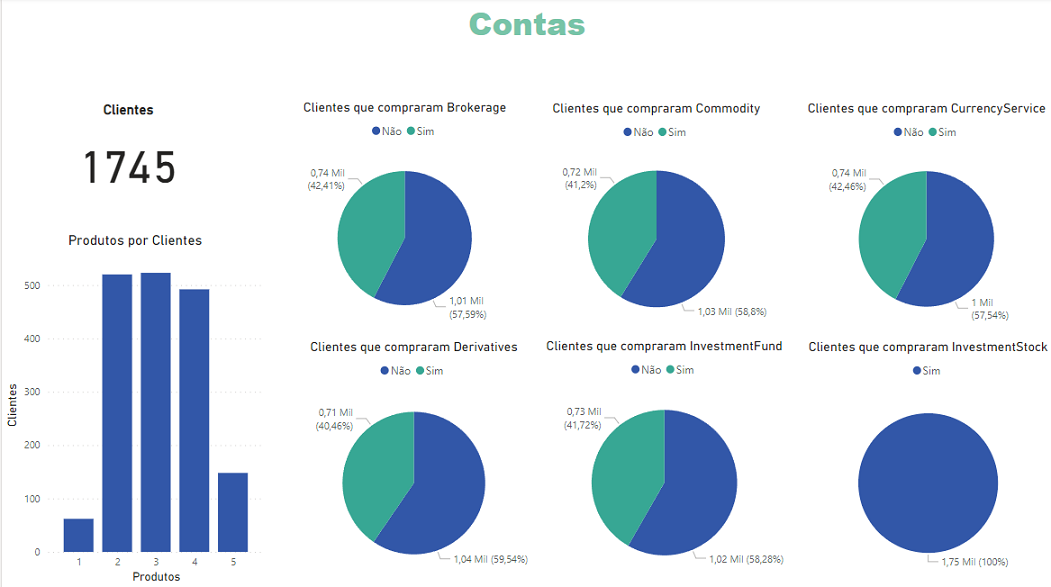

This screenshot's page, from the dashboard's own definition file:
{"tool":"powerbi","page":{"name":"Contas","canvas":[1280,720],"ordinal":2},"visuals":[{"type":"pieChart","title":"Clientes que compraram Derivatives","fields":{"Y":["CountNonNull(contas._id)"],"Category":["contas.Derivatives"]},"box":[343.1,417.2,318.4,303.3],"z":0},{"type":"pieChart","title":"Clientes que compraram Commodity","fields":{"Category":["contas.Commodity"],"Y":["CountNonNull(contas._id)"]},"box":[640.8,126.2,314.2,289.5],"z":1000},{"type":"pieChart","title":"Clientes que compraram CurrencyService","fields":{"Y":["CountNonNull(contas._id)"],"Category":["contas.CurrencyService"]},"box":[974.3,126.2,306,289.5],"z":2000},{"type":"pieChart","title":"Clientes que compraram InvestmentFund","fields":{"Y":["CountNonNull(contas._id)"],"Category":["contas.InvestmentFund"]},"box":[640.8,415.8,333.4,304.6],"z":3000},{"type":"pieChart","title":"Clientes que compraram InvestmentStock","fields":{"Y":["CountNonNull(contas._id)"],"Category":["contas.InvestmentStock"]},"box":[978.4,417.2,301.9,303.3],"z":4000},{"type":"pieChart","title":"Clientes que compraram Brokerage","fields":{"Category":["contas.Brokerage"],"Y":["CountNonNull(contas._id)"]},"box":[343.1,124.9,296.4,290.9],"z":5000},{"type":"clusteredColumnChart","title":"Produtos por Clientes","fields":{"Y":["CountNonNull(contas._id)"],"Category":["contas.Produtos"]},"box":[0,285.4,325.2,435],"z":6000},{"type":"card","title":"Clientes","fields":{"Values":["Count(contas._id)"]},"box":[0,126.2,308.7,129],"z":7000},{"type":"textbox","box":[0,0,1280.3,98.8],"z":8000}]}

Visuals, with their boxes in screenshot pixels (x1, y1, x2, y2), scaled from the page's 1280x720 canvas onto the 1051x587 screenshot:
"Clientes que compraram Derivatives" pieChart: Rect(282, 340, 543, 586)
"Clientes que compraram Commodity" pieChart: Rect(526, 103, 784, 339)
"Clientes que compraram CurrencyService" pieChart: Rect(800, 103, 1050, 339)
"Clientes que compraram InvestmentFund" pieChart: Rect(526, 339, 800, 586)
"Clientes que compraram InvestmentStock" pieChart: Rect(803, 340, 1050, 586)
"Clientes que compraram Brokerage" pieChart: Rect(282, 102, 525, 339)
"Produtos por Clientes" clusteredColumnChart: Rect(0, 233, 267, 586)
"Clientes" card: Rect(0, 103, 253, 208)
textbox: Rect(0, 0, 1050, 81)
